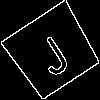J: (27, 26, 74, 79)
